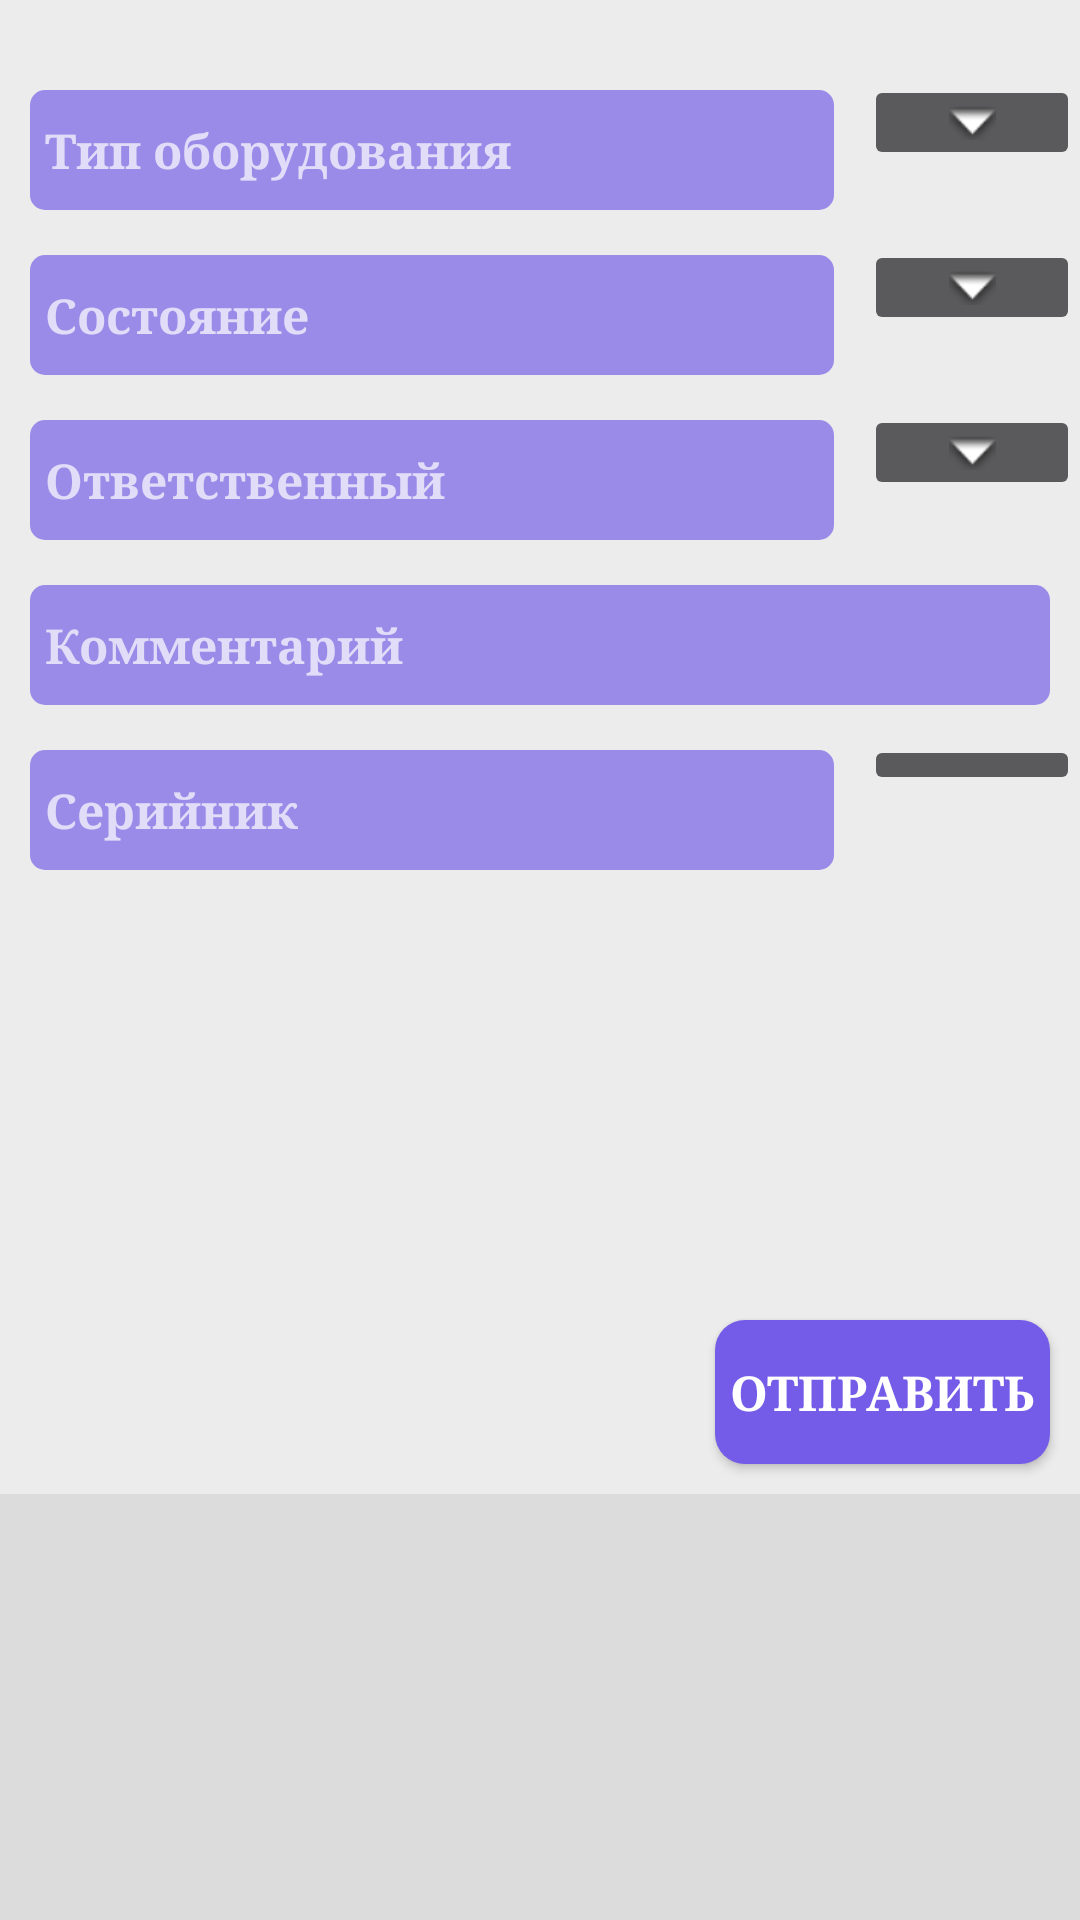

Icons on this 1080px×1920px Android screen, each with the point to tap as [x,y]:
arrow down float: [972,122], [972,287], [972,452]
